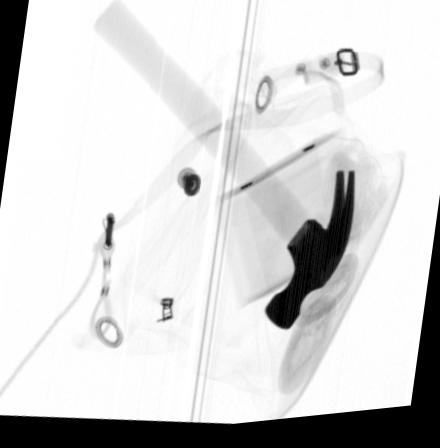Hammer: (90, 0, 355, 336)
